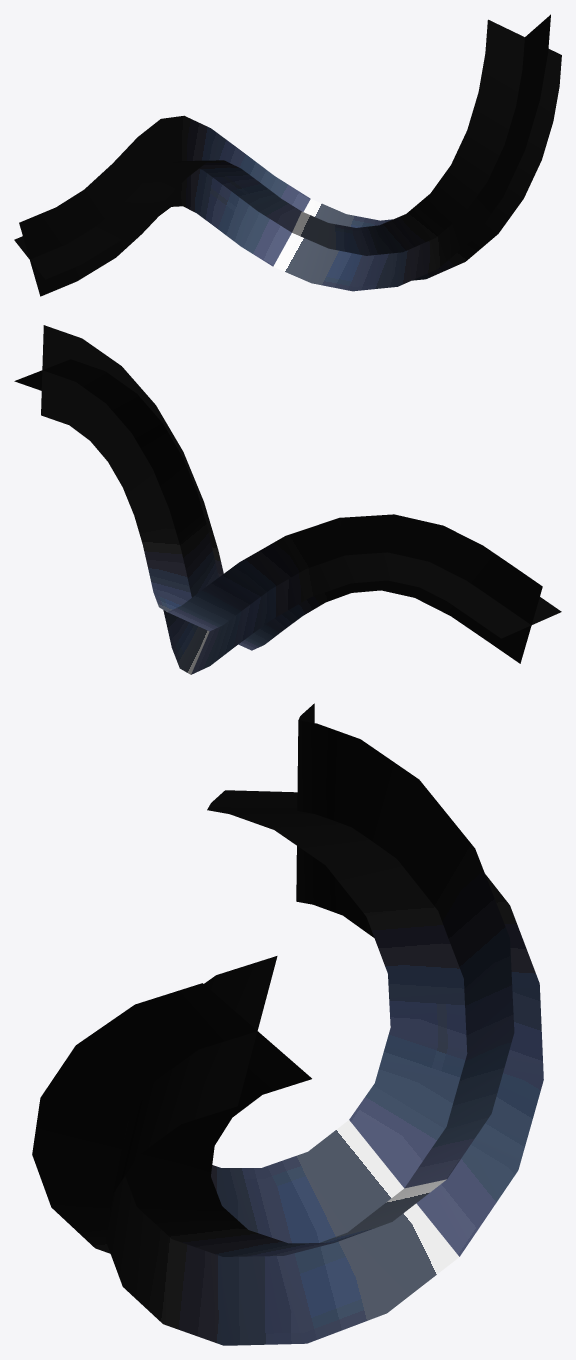
Rendered from 0446_tiaodai_menghuan.glb.
3 renders of one model, top to bottom at view 1: azimuth 30°, elevation 25°; view 2: azimuth 150°, elevation 25°; view 3: azimuth 270°, elevation 25°, orthographic. The views are drawn at different scales.
Size of the model in its own units: 2.2 by 1.01 by 0.9308.
1 material, 1 textured.
